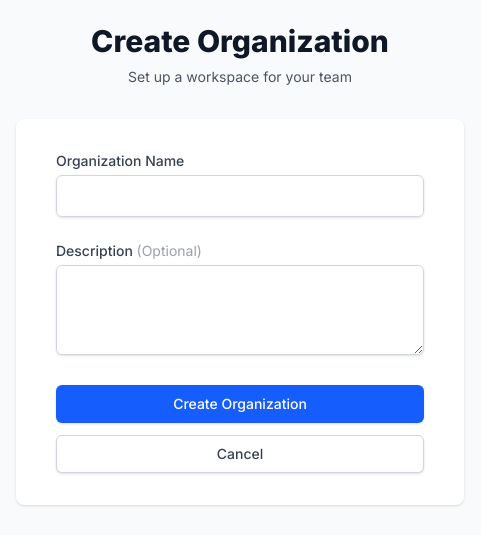
Test: Organization Onboarding & Workspace › 3, 4. Create organization form renders and validation works
Expected: the heading "Create Organization" is shown, [91,23,389,59]
Step 1. Click the button "Create Organization" → (240, 404), box [56,385,424,423]
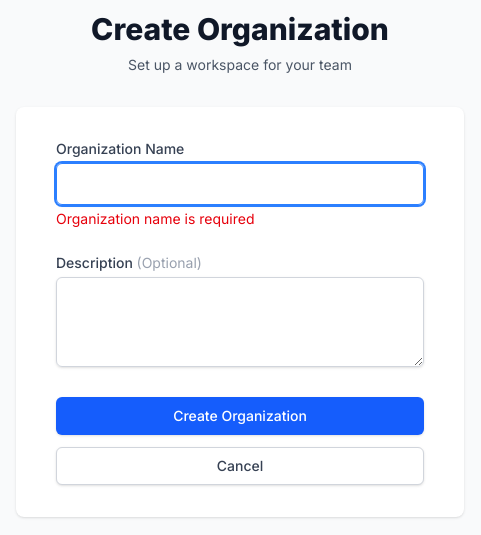
Now the text "Organization name is required" is shown, box [56,210,254,227]
